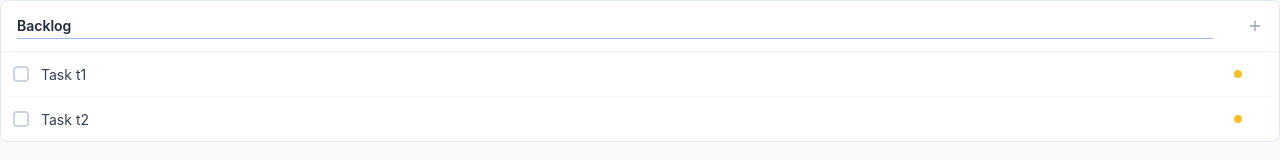
Test case: TaskListView › cancels on Escape without saving
The image size is (1280, 160).
Earlier steps of the test are not shown.
Replace the text in the field named "Task list name" with "Inbox" at [615, 26], box x1=17 y1=14 x2=1213 y2=39
Then press Escape
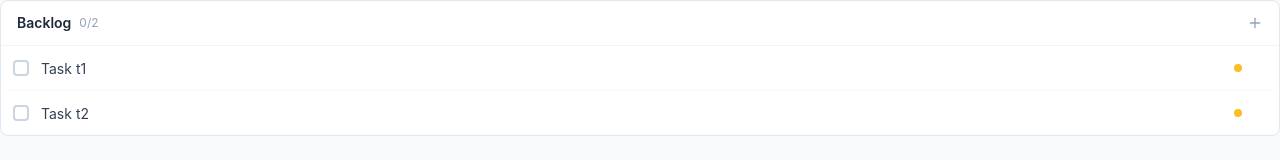
Result: the heading "Backlog" is shown at x1=17 y1=13 x2=71 y2=33
